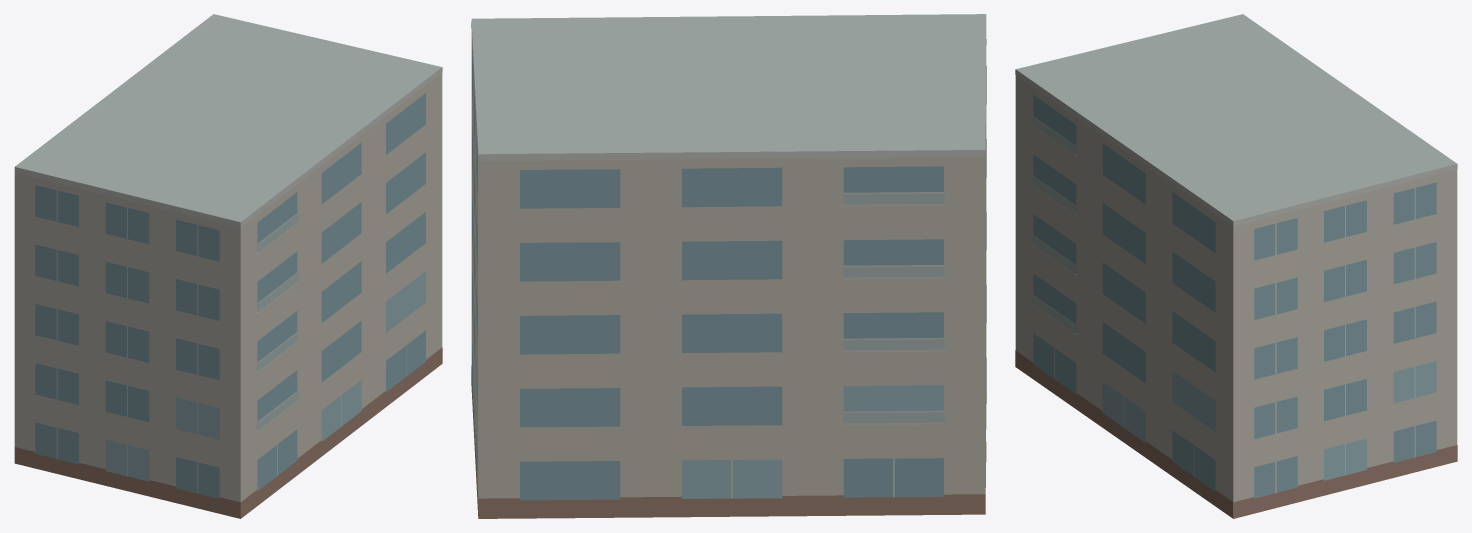
The model's file is survey-upis-32766710.glb.
The picture shows the model from 3 angles, left to right: view 1: azimuth 30°, elevation 25°; view 2: azimuth 150°, elevation 25°; view 3: azimuth 270°, elevation 25°; orthographic projection. The views are drawn at different scales.
Parts seen in each view (by area): view 1: survey-upis-32766710.tmp; view 2: survey-upis-32766710.tmp; view 3: survey-upis-32766710.tmp.
Boxes of the visible parts, x1,y1,x2,y2 form: survey-upis-32766710.tmp: (14,14,442,518); survey-upis-32766710.tmp: (471,14,986,518); survey-upis-32766710.tmp: (1015,14,1457,518).
Size of the model in its own units: 19.41 by 13 by 17.5.
